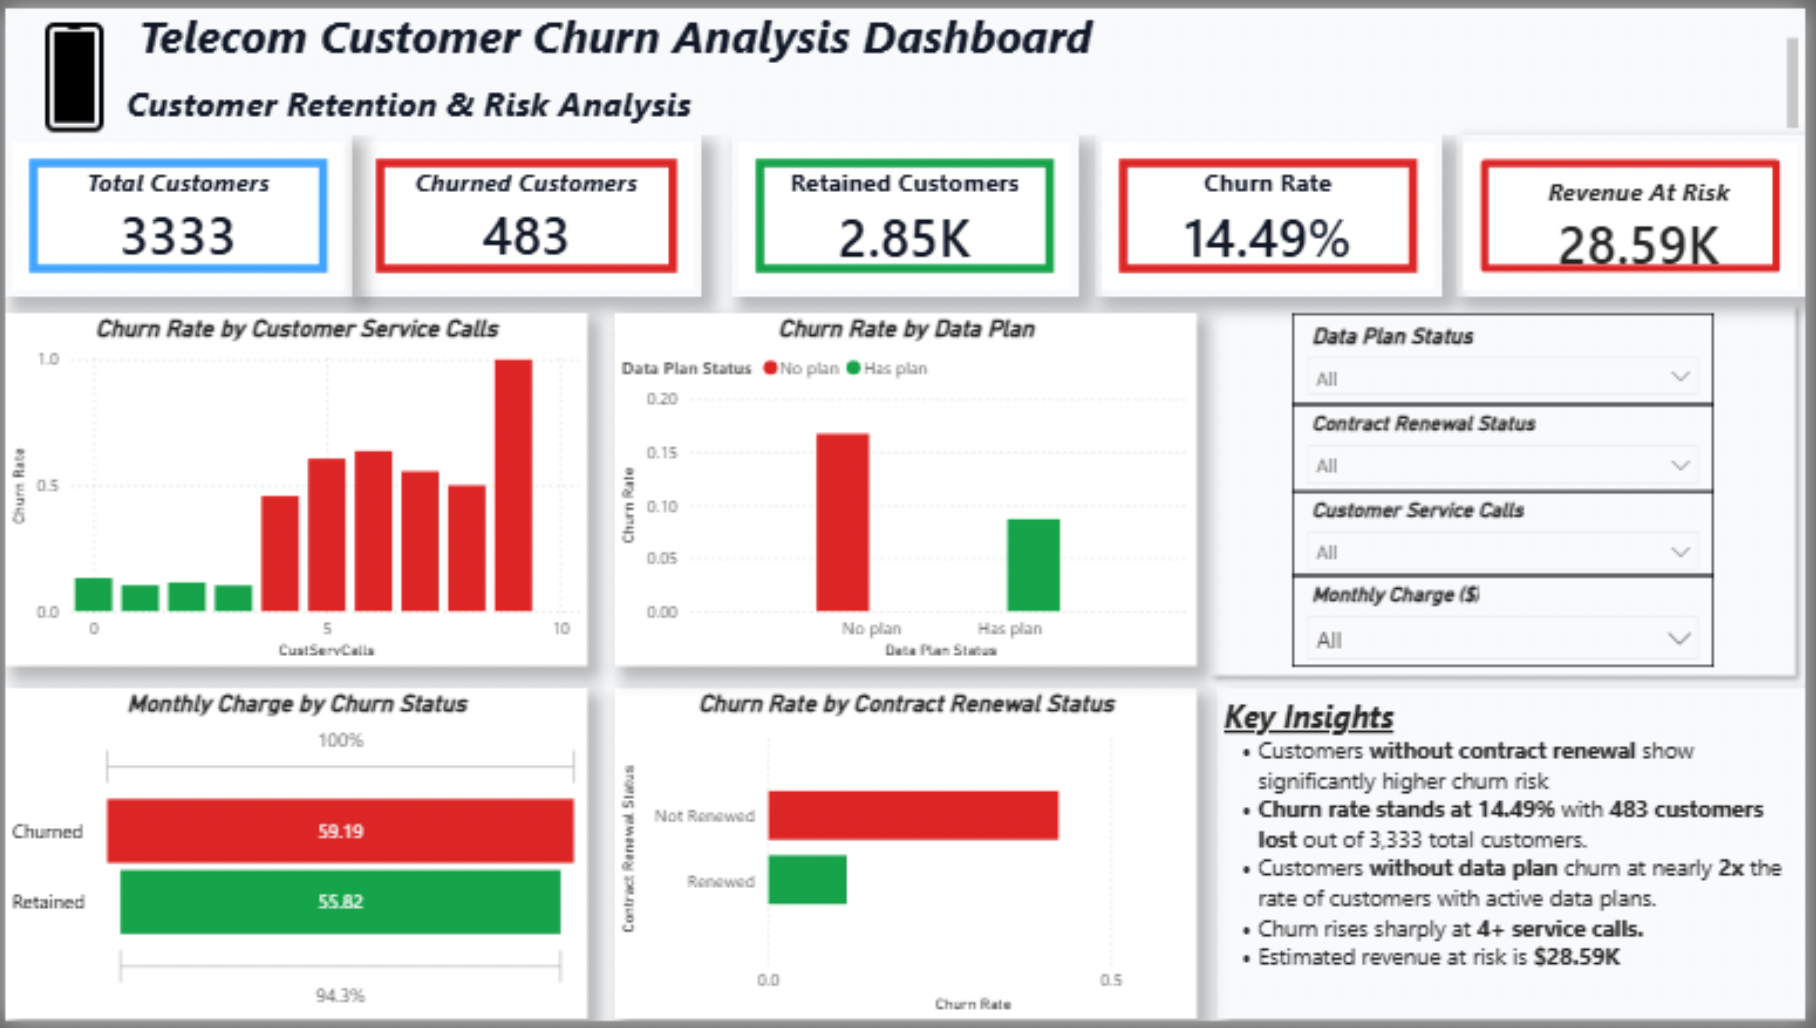

What the dashboard file says about the page in this screenshot:
{"tool":"powerbi","page":{"name":"Page 1","canvas":[1280,720],"ordinal":0},"visuals":[{"type":"shape","box":[846.7,200,435,283.3],"z":0},{"type":"cardVisual","fields":{"Data":["telecom_churn.Churned Customer"]},"box":[246.7,90,248.3,115],"z":1000},{"type":"cardVisual","fields":{"Data":["telecom_churn.Total Customers"]},"box":[0,90,246.7,115],"z":2000},{"type":"cardVisual","fields":{"Data":["telecom_churn.Retained Customers"]},"box":[516.7,90,246.7,115],"z":3000},{"type":"cardVisual","fields":{"Data":["telecom_churn.Churn Rate"]},"box":[775,90,246.7,115],"z":4000},{"type":"clusteredBarChart","fields":{"Category":["telecom_churn.Contract Renewal Status"],"Y":["telecom_churn.Churn Rate"]},"box":[432.7,483.7,414.3,234.7],"z":5000},{"type":"clusteredColumnChart","title":"Churn Rate by Data Plan","fields":{"Category":["telecom_churn.Data Plan Status"],"Y":["telecom_churn.Churn Rate"],"Series":["telecom_churn.Data Plan Status"]},"box":[432.7,216.3,414.3,251],"z":6000},{"type":"columnChart","title":"Churn Rate by Customer Service Calls","fields":{"Category":["telecom_churn.CustServCalls"],"Y":["telecom_churn.Churn Rate"]},"box":[0,216.3,414.3,251],"z":7000},{"type":"funnel","title":"Monthly Charge by Churn Status","fields":{"Category":["telecom_churn.Churn Status"],"Y":["Avg(telecom_churn.MonthlyCharge)"]},"box":[0,483.7,414.3,234.7],"z":8000},{"type":"textbox","box":[0,0,1279.6,89.8],"z":9000},{"type":"image","box":[0,8.5,97.9,80.9],"z":10000},{"type":"cardVisual","fields":{"Data":["telecom_churn.Revenue At Risk"]},"box":[1031.7,90,248.3,115],"z":11000},{"type":"textbox","box":[861.7,483.3,418.3,235],"z":12000},{"type":"slicer","fields":{"Values":["telecom_churn.Data Plan Status"]},"box":[915,216.7,300,65],"z":13000},{"type":"slicer","fields":{"Values":["telecom_churn.Contract Renewal Status"]},"box":[915,281.7,300,61.7],"z":13001},{"type":"slicer","fields":{"Values":["telecom_churn.CustServCalls"]},"box":[915,343.3,300,60],"z":13002},{"type":"slicer","fields":{"Values":["telecom_churn.MonthlyCharge"]},"box":[915,403.3,300,65],"z":13003}]}

Visuals, with their boxes in screenshot pixels (x1, y1, x2, y2), scaled from the page's 1280x720 canvas onto the 1816x1028 screenshot:
shape: l=1201, t=286, r=1815, b=690
cardVisual - telecom_churn.Churned Customer: l=350, t=128, r=702, b=293
cardVisual - telecom_churn.Total Customers: l=0, t=128, r=350, b=293
cardVisual - telecom_churn.Retained Customers: l=733, t=128, r=1083, b=293
cardVisual - telecom_churn.Churn Rate: l=1100, t=128, r=1450, b=293
clusteredBarChart - telecom_churn.Contract Renewal Status x telecom_churn.Churn Rate: l=614, t=691, r=1202, b=1026
"Churn Rate by Data Plan" clusteredColumnChart: l=614, t=309, r=1202, b=667
"Churn Rate by Customer Service Calls" columnChart: l=0, t=309, r=588, b=667
"Monthly Charge by Churn Status" funnel: l=0, t=691, r=588, b=1026
textbox: l=0, t=0, r=1815, b=128
image: l=0, t=12, r=139, b=128
cardVisual - telecom_churn.Revenue At Risk: l=1464, t=128, r=1815, b=293
textbox: l=1223, t=690, r=1815, b=1026
slicer - telecom_churn.Data Plan Status: l=1298, t=309, r=1724, b=402
slicer - telecom_churn.Contract Renewal Status: l=1298, t=402, r=1724, b=490
slicer - telecom_churn.CustServCalls: l=1298, t=490, r=1724, b=576
slicer - telecom_churn.MonthlyCharge: l=1298, t=576, r=1724, b=669
